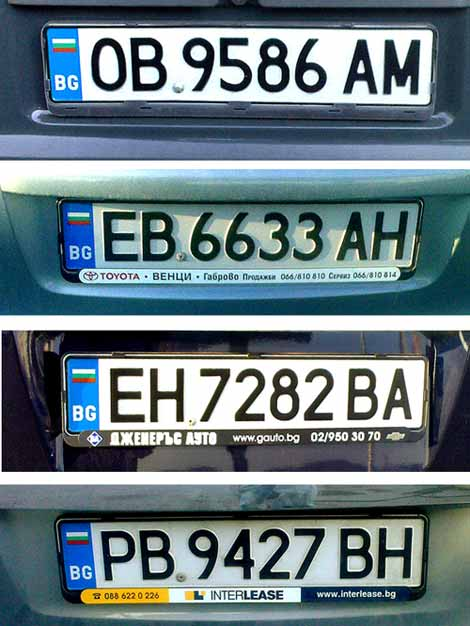registration_plate: (50, 511, 433, 604), (55, 354, 433, 448), (49, 194, 420, 285)
